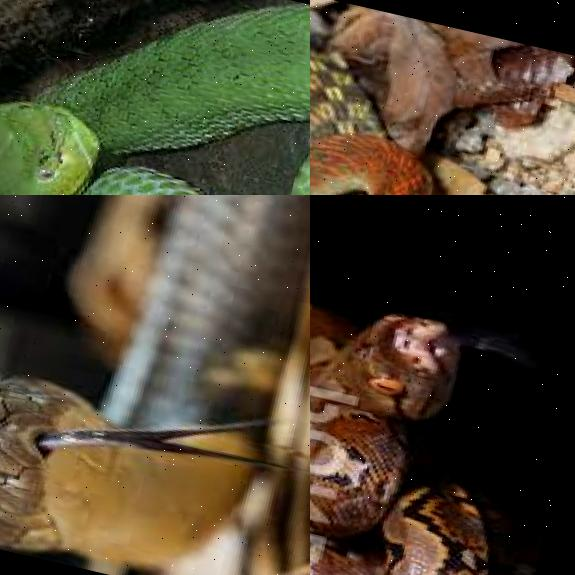snake: (0, 195, 310, 575), (310, 254, 548, 575), (0, 0, 310, 195), (310, 7, 546, 195)
